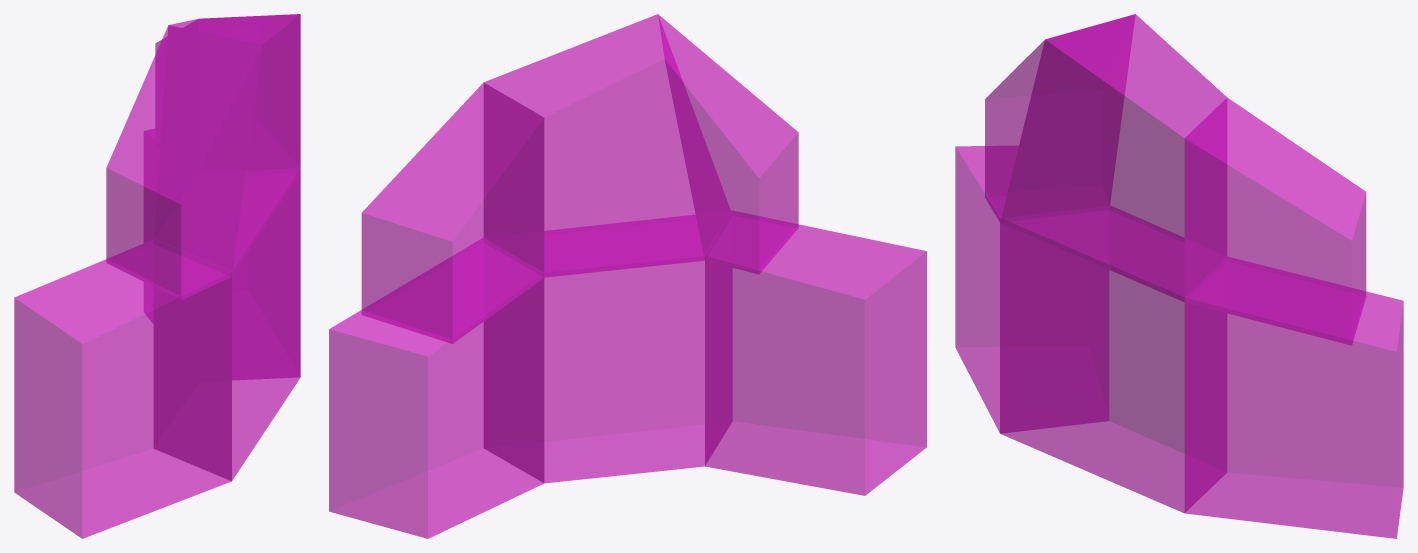
Rendered from SM_Bld_Wall_L_Curve_Half_Damaged_02_Collision.fbx.
3 renders of one model, left to right at view 1: azimuth 30°, elevation 25°; view 2: azimuth 150°, elevation 25°; view 3: azimuth 270°, elevation 25°, orthographic. The views are drawn at different scales.
Visible parts, largest first — view 1: SM_Bld_Wall_L_Curve_Half_Damaged_02_Collision; view 2: SM_Bld_Wall_L_Curve_Half_Damaged_02_Collision; view 3: SM_Bld_Wall_L_Curve_Half_Damaged_02_Collision.
Boxes of the visible parts, left/top/right/bottom form: SM_Bld_Wall_L_Curve_Half_Damaged_02_Collision: left=14, top=14, right=300, bottom=538; SM_Bld_Wall_L_Curve_Half_Damaged_02_Collision: left=329, top=14, right=926, bottom=538; SM_Bld_Wall_L_Curve_Half_Damaged_02_Collision: left=955, top=14, right=1403, bottom=538.
Size of the model in its own units: 295 by 300 by 290.
